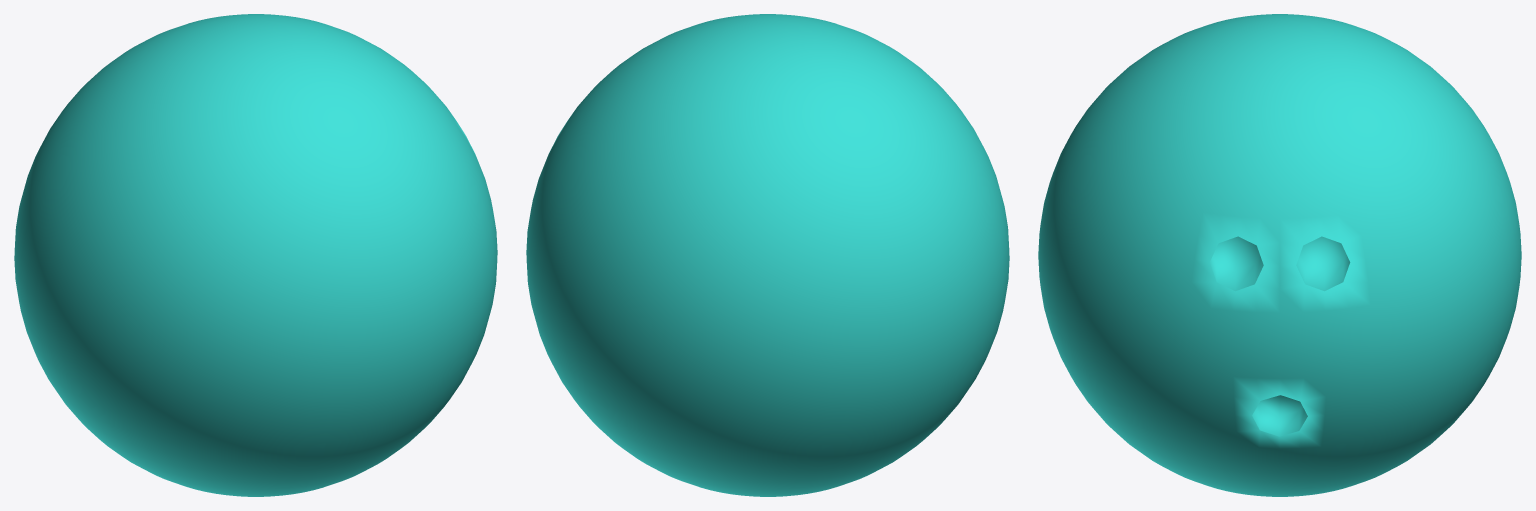
File: bowlingball.glb
3 renders of one model, left to right at view 1: azimuth 30°, elevation 25°; view 2: azimuth 150°, elevation 25°; view 3: azimuth 270°, elevation 25°, orthographic.
Parts seen in each view (by area): view 1: Sphere; view 2: Sphere; view 3: Sphere.
Part boxes in pixels (bbox=[...]): Sphere: bbox=[14, 14, 497, 496]; Sphere: bbox=[526, 14, 1009, 496]; Sphere: bbox=[1038, 14, 1521, 496].
Bounding box in the file's own units: 2.99 × 2.99 × 2.99.
